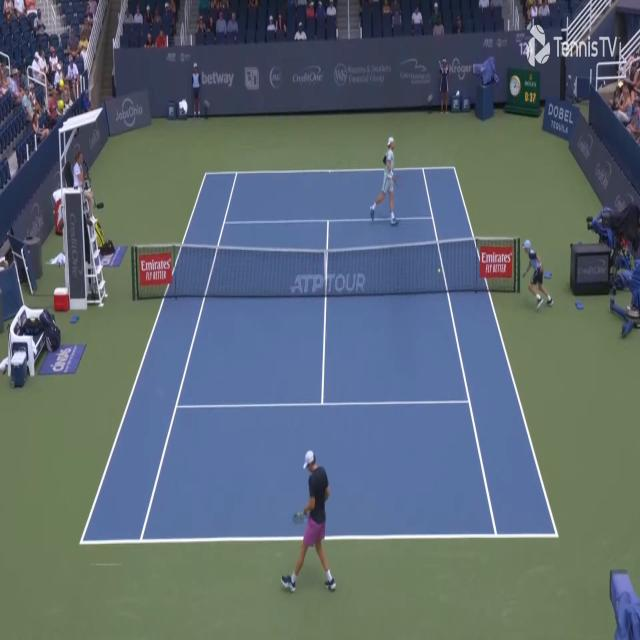tennis-player: (279, 444, 342, 600), (368, 134, 399, 226)
